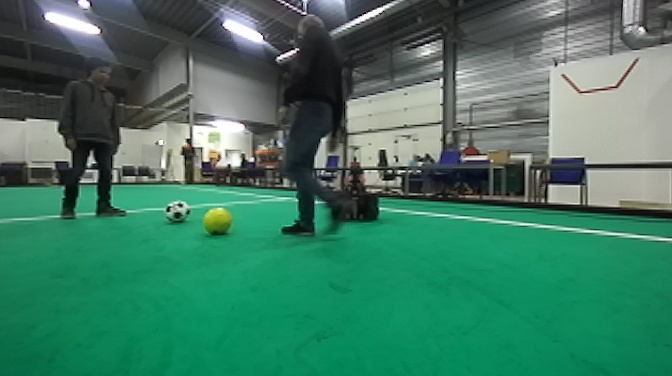ball: (198, 204, 236, 236), (165, 198, 193, 225)
human: (281, 17, 351, 242), (55, 56, 135, 223)
robot: (327, 136, 384, 225)
